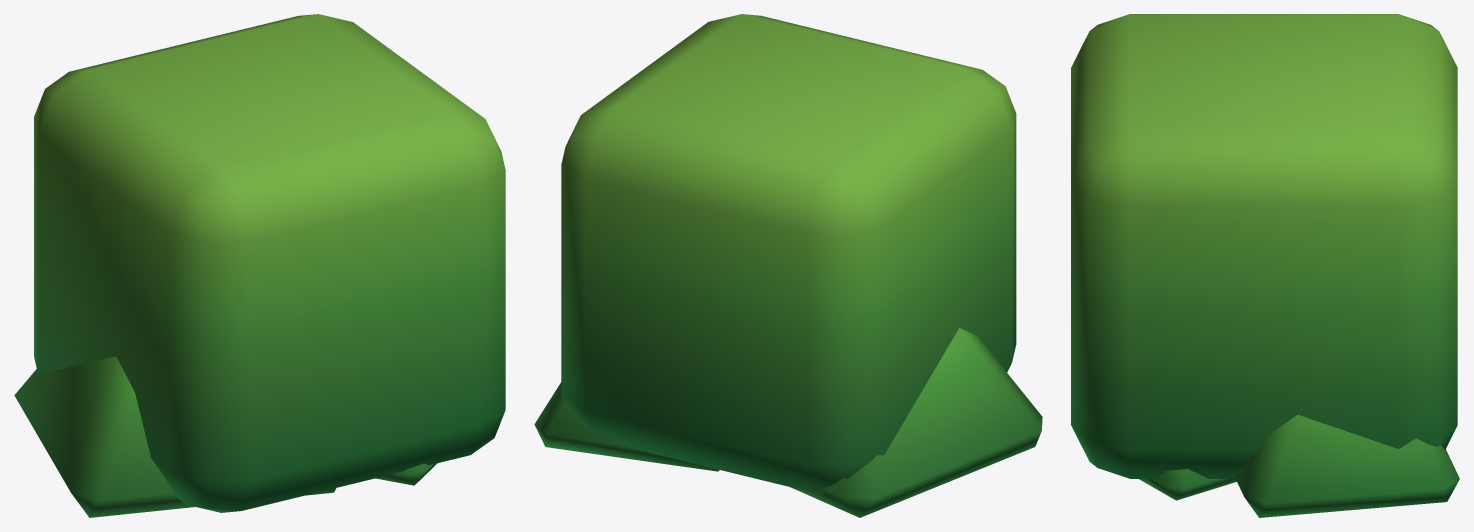
File: HeroBushes.glb
3 views of the same model, side by side, from view 1: azimuth 30°, elevation 25°; view 2: azimuth 150°, elevation 25°; view 3: azimuth 270°, elevation 25° (orthographic). The views are drawn at different scales.
Parts seen in each view (by area): view 1: Bush_2_C_Color1, Bush_4_D_Color1; view 2: Bush_2_C_Color1, Bush_4_D_Color1; view 3: Bush_2_C_Color1, Bush_4_D_Color1.
Part boxes in pixels (x1,y1,x2,y2): Bush_2_C_Color1: (34, 14, 505, 512); Bush_4_D_Color1: (14, 356, 436, 517); Bush_2_C_Color1: (561, 14, 1016, 493); Bush_4_D_Color1: (534, 328, 1042, 517); Bush_2_C_Color1: (1071, 14, 1457, 478); Bush_4_D_Color1: (1139, 414, 1459, 517).
Bounding box in the file's own units: 1.74 × 1.35 × 1.33.
1 material, 1 textured.
